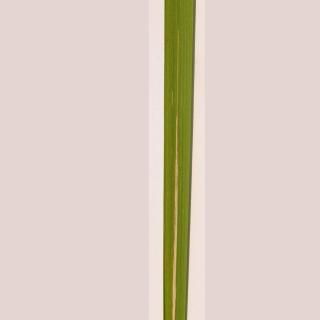Hawar-Daun: (162, 104, 187, 320)
